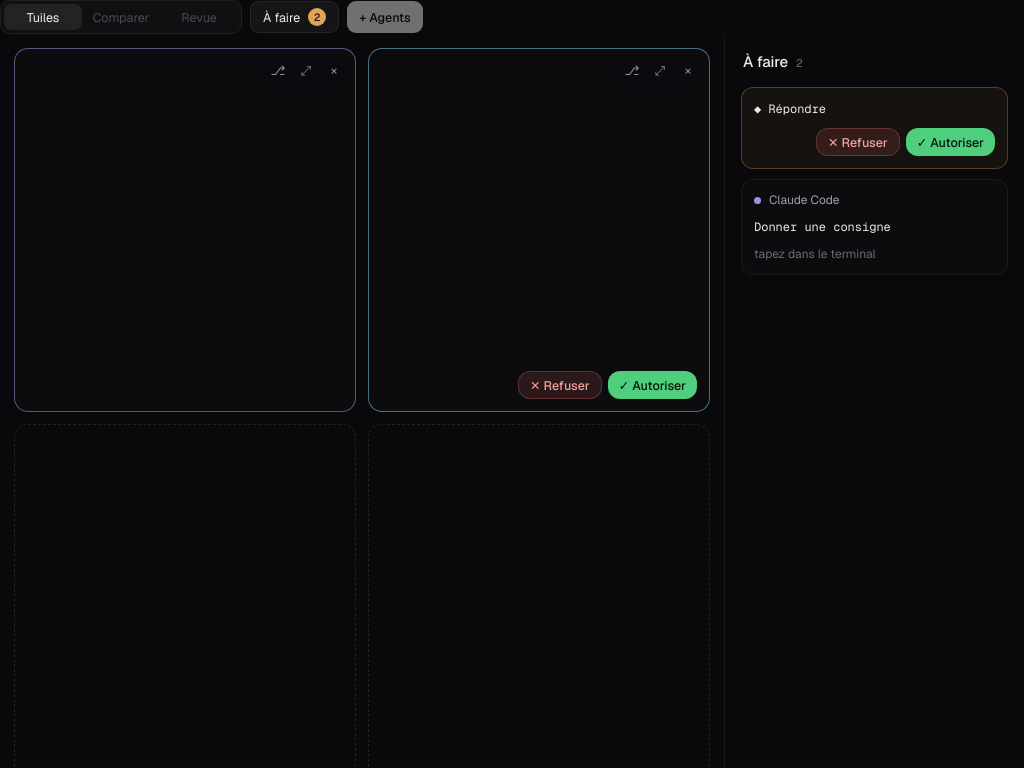
Test: À faire column (T082, T086) › closes into the button, which keeps the count
Click the button "À faire 2" at (295, 17), box [250,1,339,33]
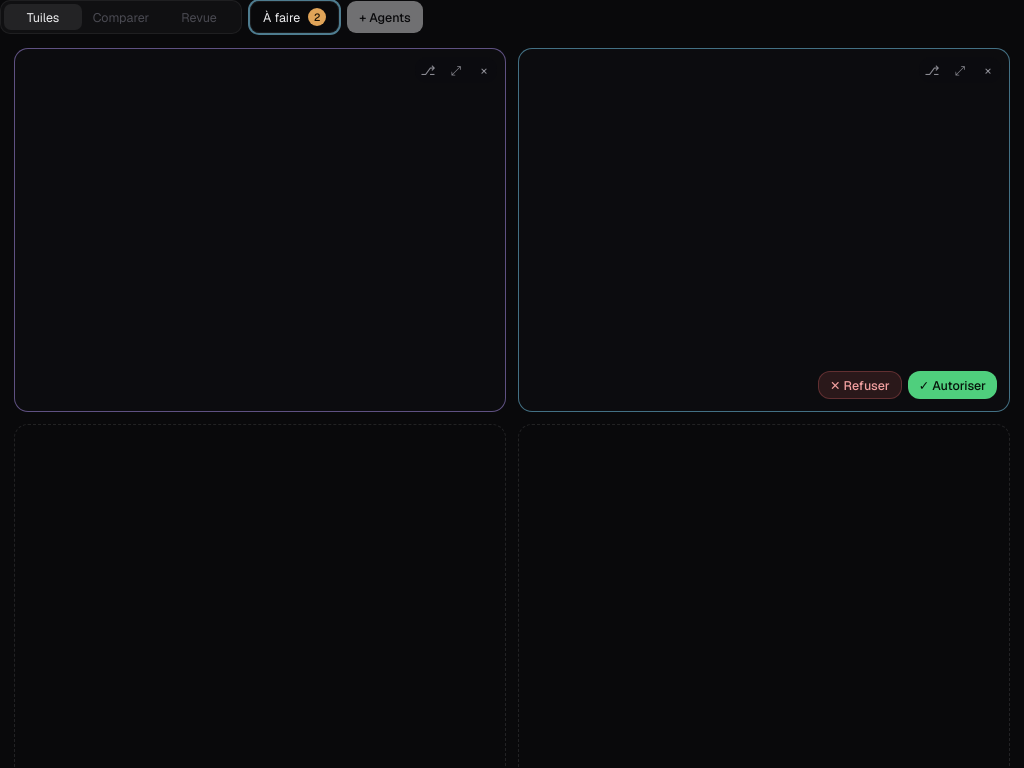
Click the button "À faire 2" at (295, 17), box [250,1,339,33]
(page scrolled)
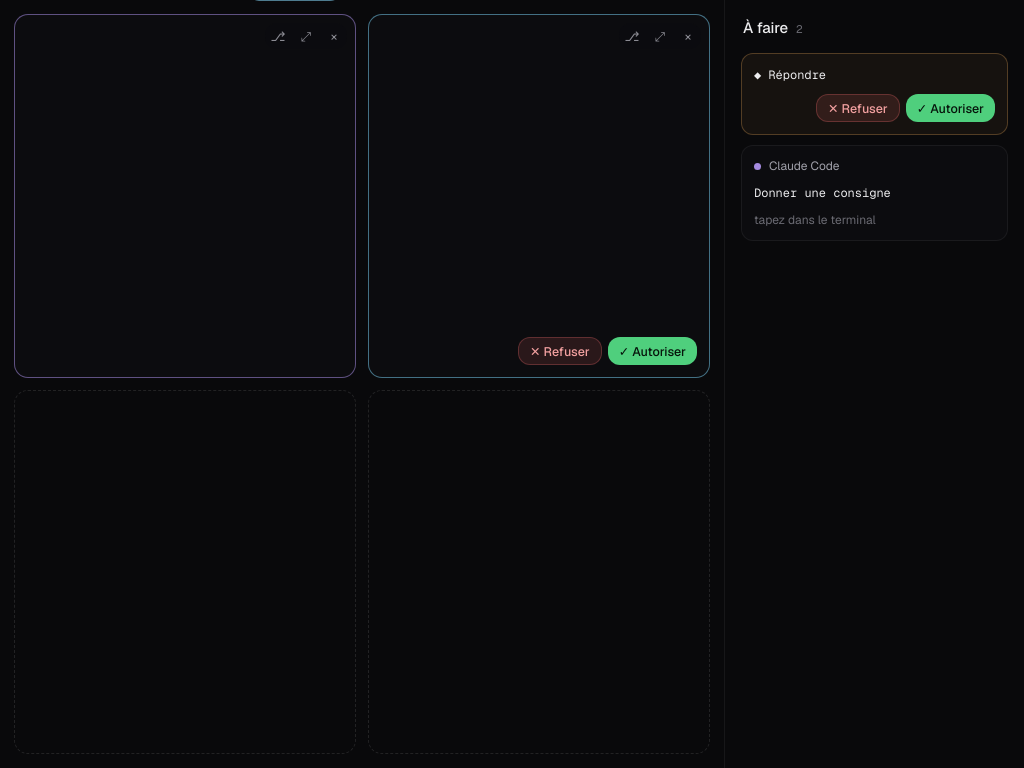
Result: the element "À faire" is shown at [724,0,1023,767]
